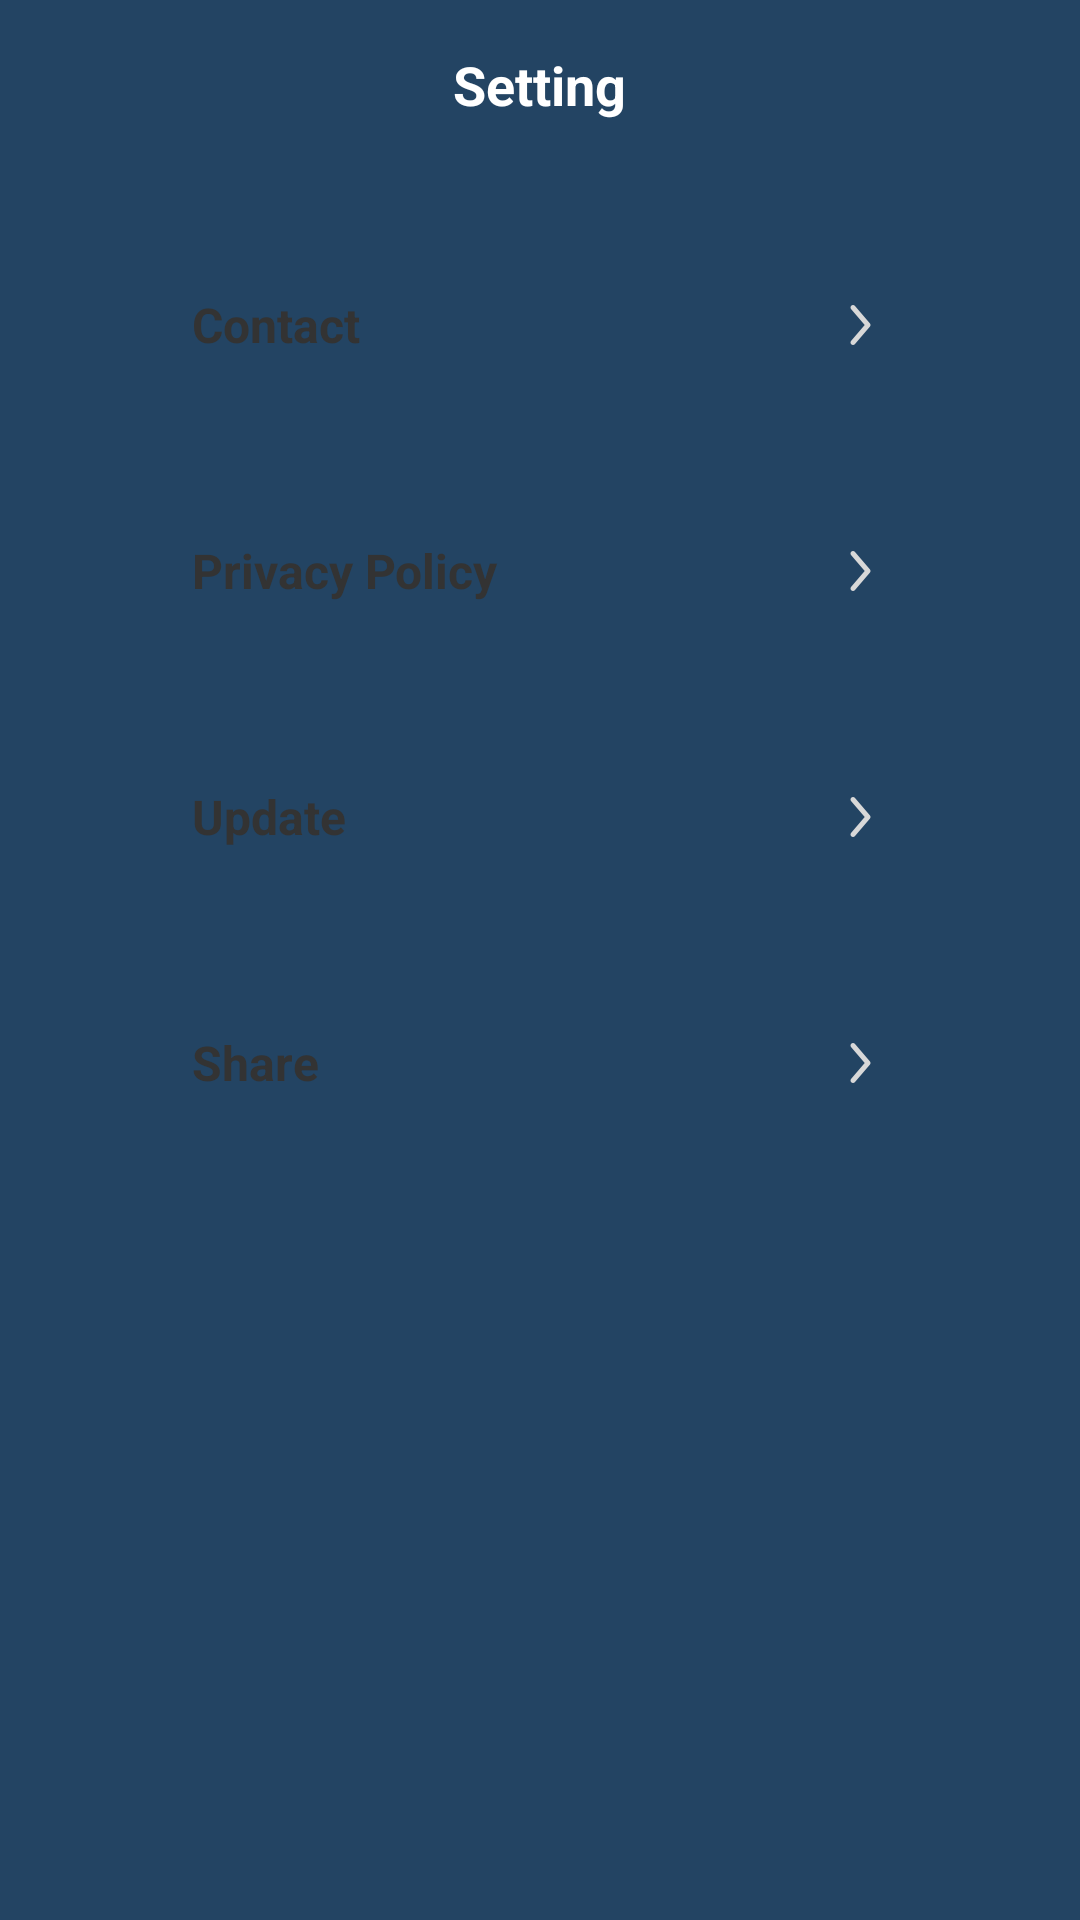

Icons on this 1080×1920 Android screen, each with its box as (x1, y1, x2, y2):
rught: (850, 305, 871, 345), (850, 551, 871, 591), (850, 797, 871, 837), (850, 1043, 871, 1083)
